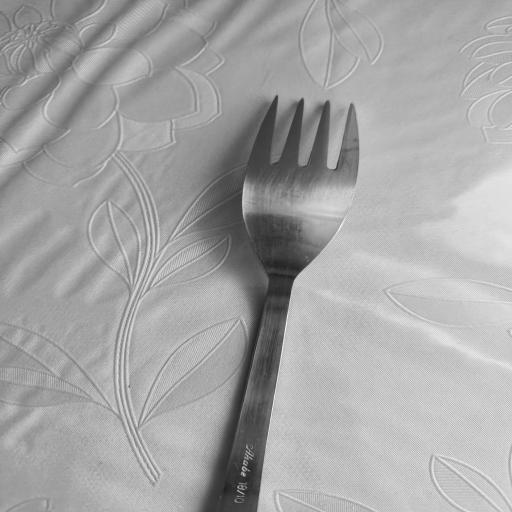fork: (215, 97, 371, 512)
